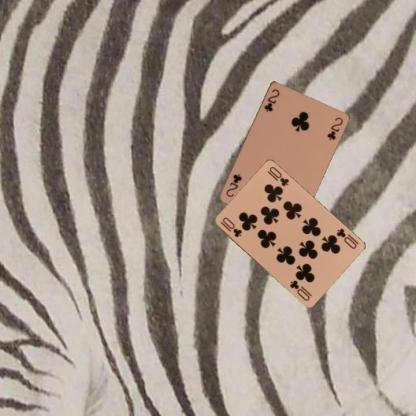10c: (218, 214, 243, 239), (333, 226, 358, 250)
2c: (261, 86, 281, 113)
